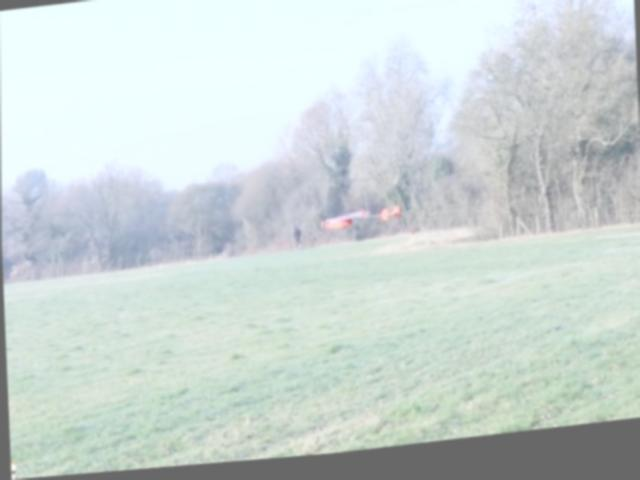uav: (317, 207, 406, 242)
